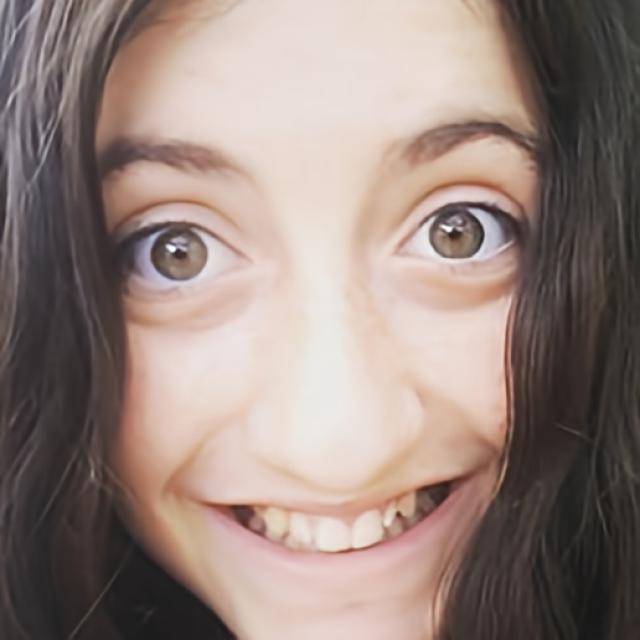surprise: (86, 0, 551, 640)
